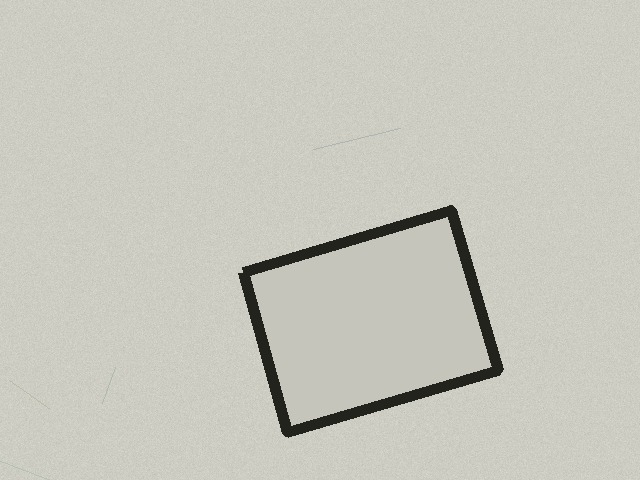parking_area: (243, 210, 498, 432)
